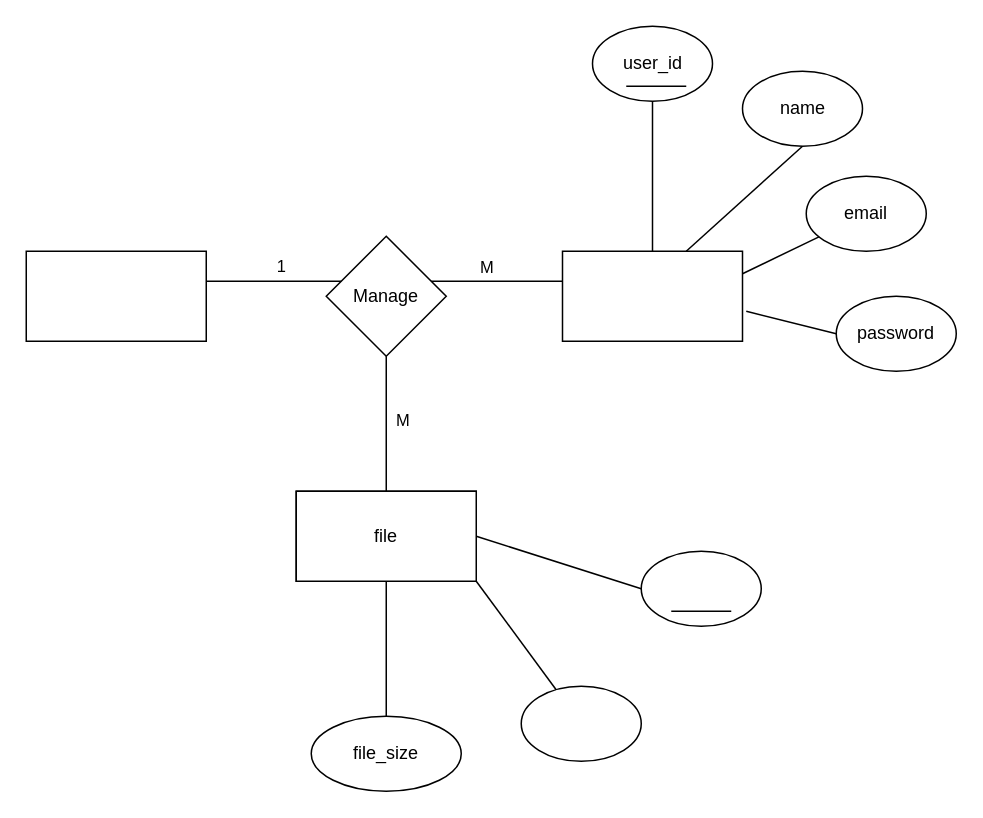
This 983x818 diagram has some shape labels left out. The centre of each missing label's shape, as x and y in pixels:
admin: (x=115, y=295)
file_id: (x=700, y=588)
file_type: (x=580, y=723)
user: (x=651, y=295)
